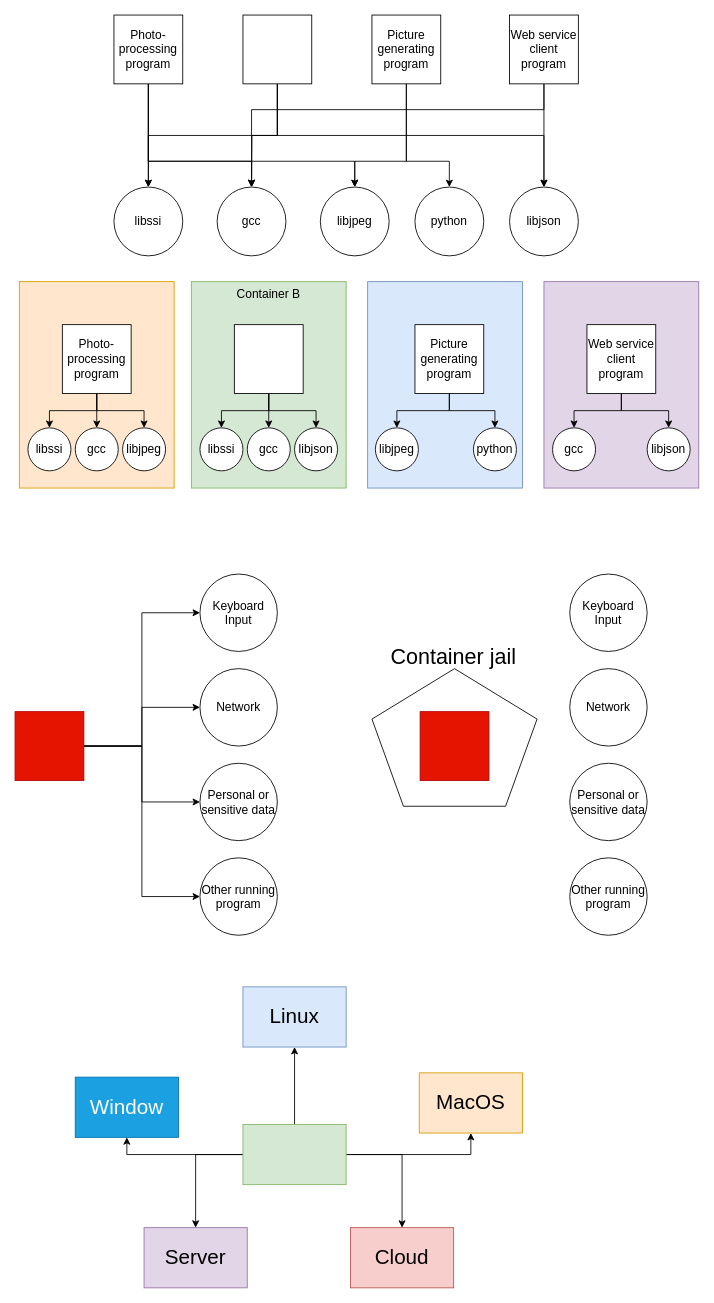
Image size: 714x1303. Some labels were removed from this diagram. Here are the shapes that lost their labels. From the top down, the box of each, then its label:
(242, 14, 312, 84): Web serrver
(233, 324, 303, 393): Web server
(18, 281, 174, 488): Container A
(367, 281, 522, 488): Container C
(543, 281, 699, 488): Container D
(14, 711, 84, 780): Viris
(419, 711, 489, 780): Virus
(242, 1124, 346, 1185): Docker Container
